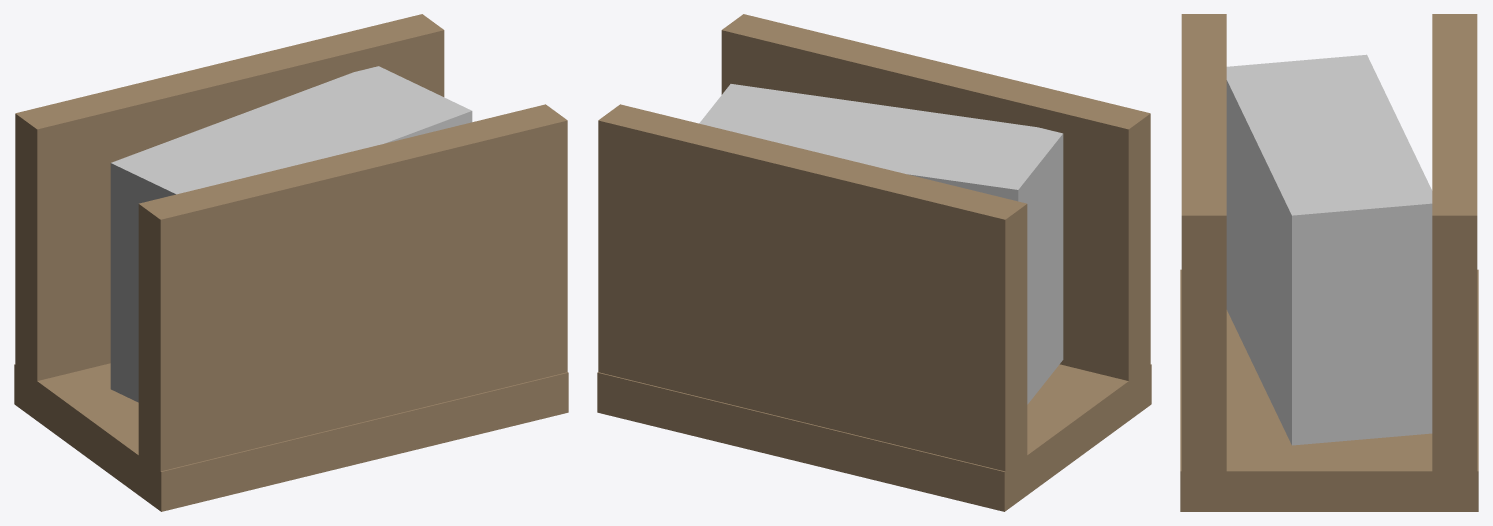
File: mesa_guardanapo.glb
The picture shows the model from 3 angles, left to right: view 1: azimuth 30°, elevation 25°; view 2: azimuth 150°, elevation 25°; view 3: azimuth 270°, elevation 25°; orthographic projection.
Parts seen in each view (by area): view 1: MESA_GUARDANAPO_v01; view 2: MESA_GUARDANAPO_v01; view 3: MESA_GUARDANAPO_v01.
Part boxes in pixels (bbox=[...]): MESA_GUARDANAPO_v01: bbox=[14, 14, 568, 511]; MESA_GUARDANAPO_v01: bbox=[597, 14, 1151, 511]; MESA_GUARDANAPO_v01: bbox=[1180, 14, 1478, 511].
Bounding box in the file's own units: 0.16 × 0.1095 × 0.1.
